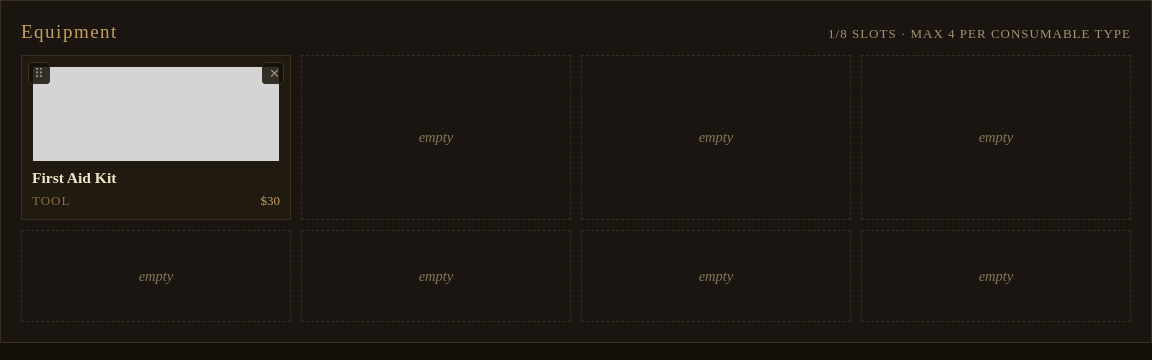
it: the ✕ remove control (issue #303) › returns focus to the now-empty cell at that index, not document.body
Click the button "✕" at (273, 73), box [262, 62, 284, 84]
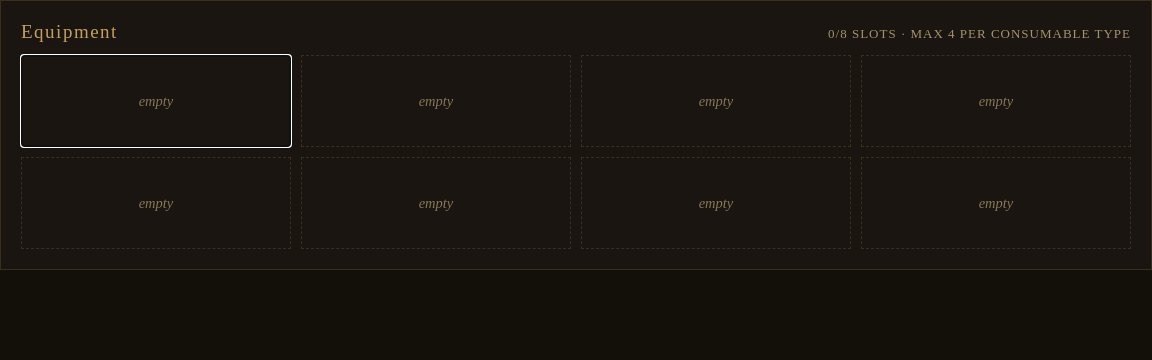
Expected: the 1st button "empty" is shown, [21, 55, 291, 147]
